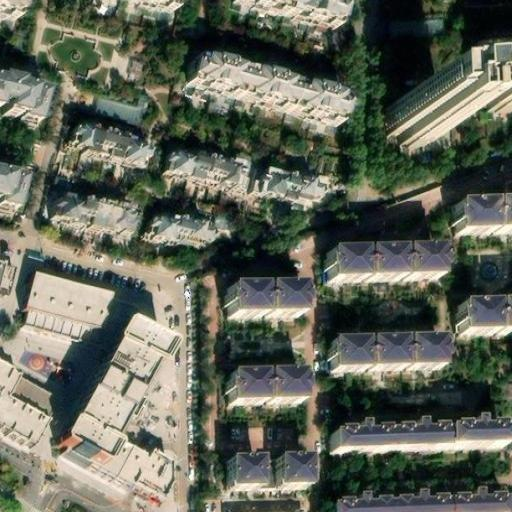building: (50, 324, 166, 474), (192, 60, 352, 128), (23, 272, 113, 345), (0, 364, 60, 442), (56, 189, 141, 232), (101, 449, 167, 504), (322, 248, 435, 280), (323, 339, 439, 370), (326, 422, 442, 451), (72, 121, 154, 162), (322, 494, 500, 512), (169, 148, 251, 187), (257, 165, 328, 201), (391, 97, 450, 139), (221, 373, 297, 403), (90, 88, 150, 126), (0, 81, 50, 126), (223, 285, 298, 314), (451, 199, 512, 233), (455, 300, 512, 335), (153, 214, 216, 245), (442, 425, 501, 450), (475, 67, 512, 106), (385, 15, 443, 39), (222, 460, 253, 495), (220, 499, 301, 512), (271, 459, 302, 489), (0, 256, 17, 290)
